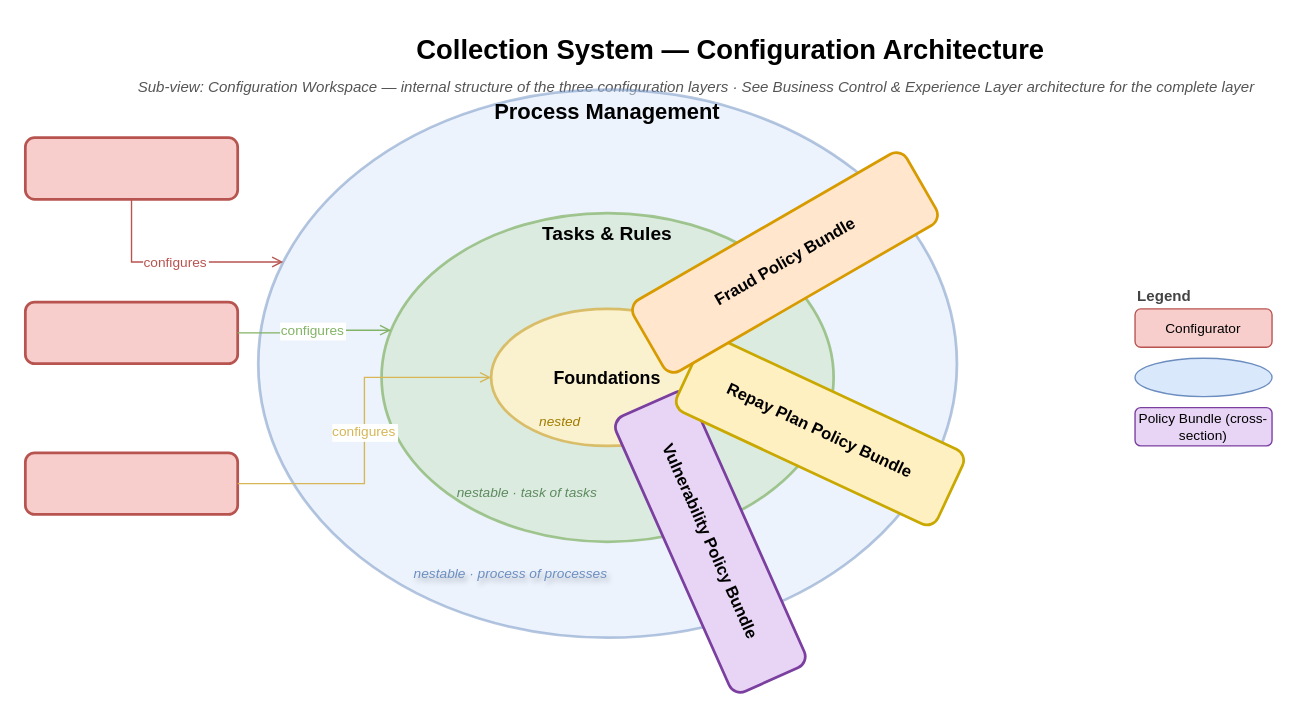
Image size: 1302x722. Some labels were removed from this diagram. Here are the shapes that lost their labels. From the top down, the centre of each, then its label:
At point (130, 168): "Process Configurator".
At point (130, 332): "Task Configurator".
At point (1203, 377): "Architecture Layer".
At point (130, 483): "Foundations Configurator".
